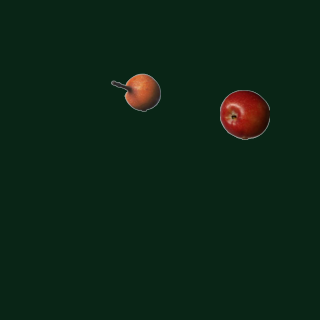Apple Braeburn: (219, 89, 269, 139)
Granadilla: (110, 67, 160, 117)
